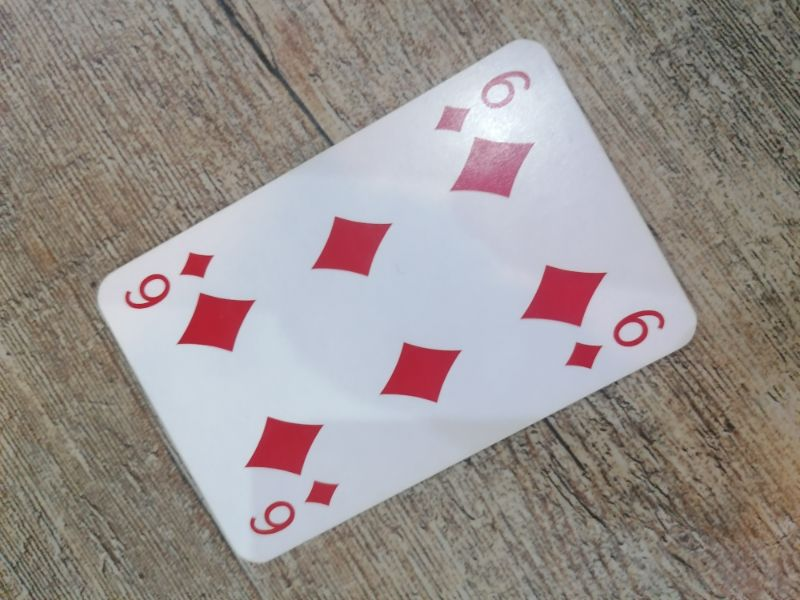6d: (432, 66, 535, 139), (562, 308, 667, 375), (120, 249, 219, 312), (245, 479, 341, 539)
